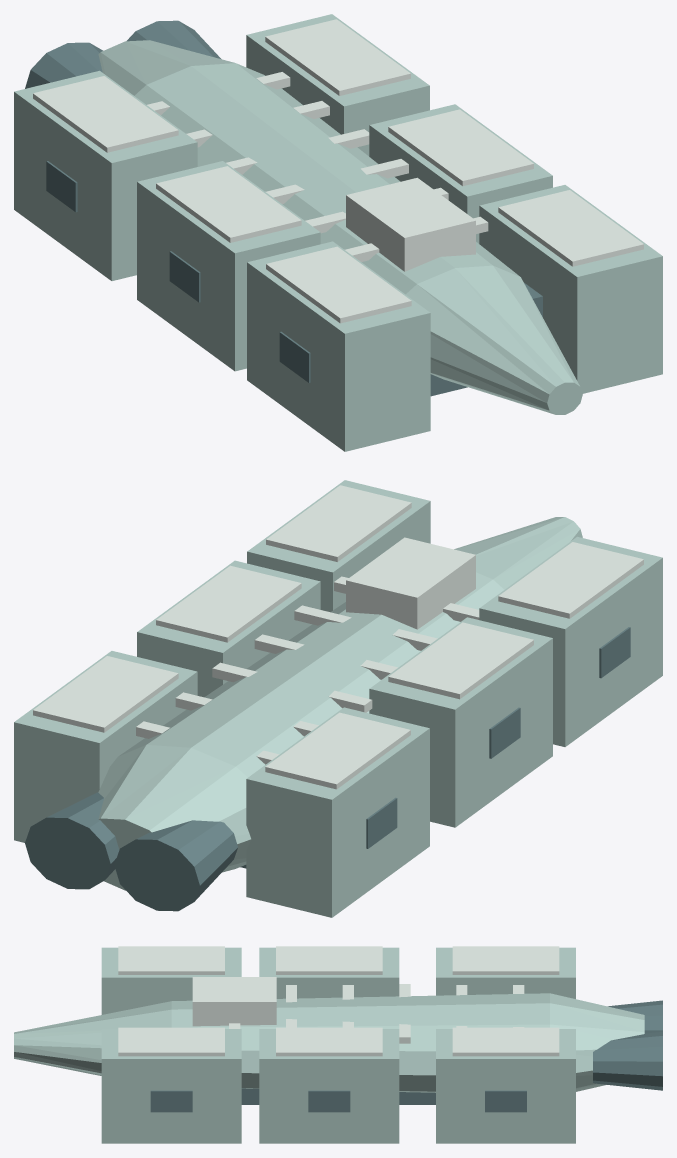
The picture shows the model from 3 angles, top to bottom: view 1: azimuth 30°, elevation 25°; view 2: azimuth 150°, elevation 25°; view 3: azimuth 270°, elevation 25°; orthographic projection. The views are drawn at different scales.
Bounding box in the file's own units: 4.1 × 1.67 × 10.
